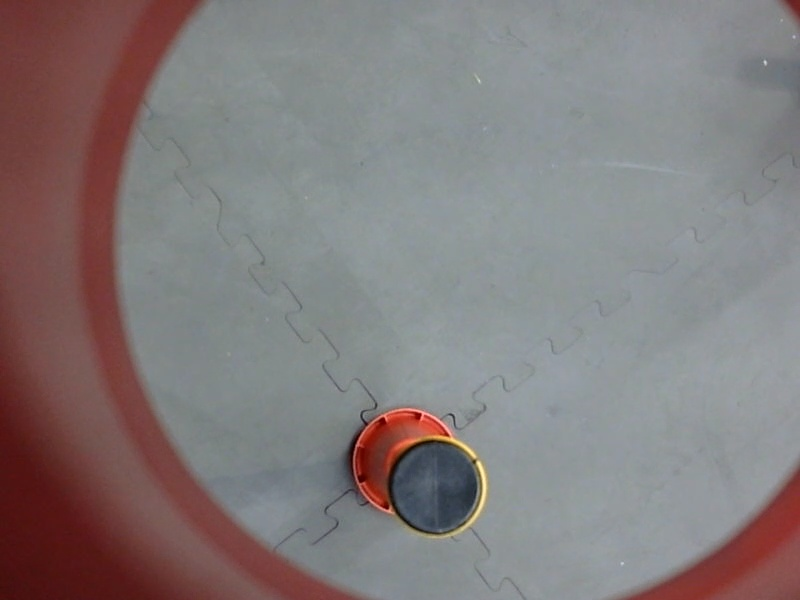tip: (377, 431, 497, 548)
